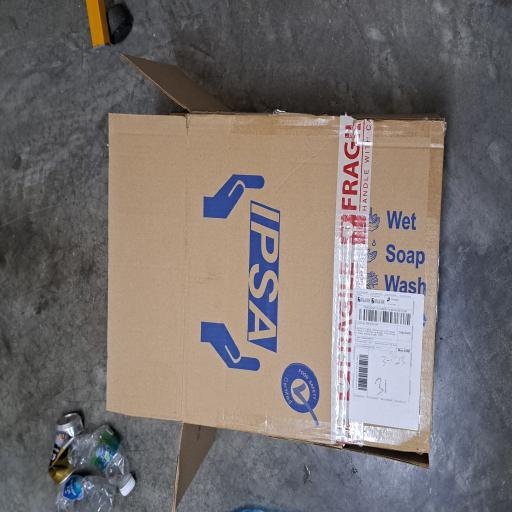can: (20, 62, 76, 112)
cardboard: (0, 140, 343, 512)
plastic bottle: (19, 90, 66, 175), (0, 73, 27, 153)
plastic bottle cap: (12, 159, 26, 181)
